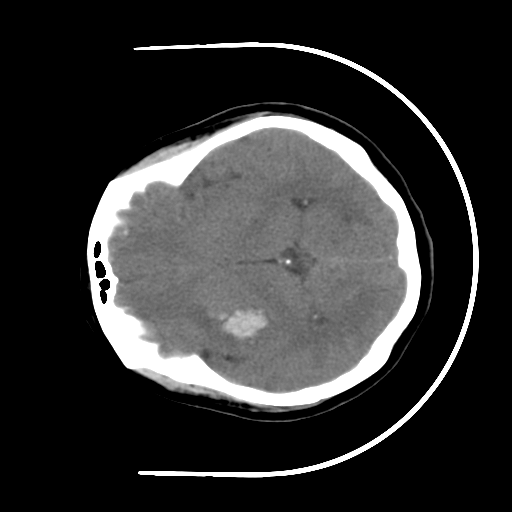a: (174, 286, 281, 363)
